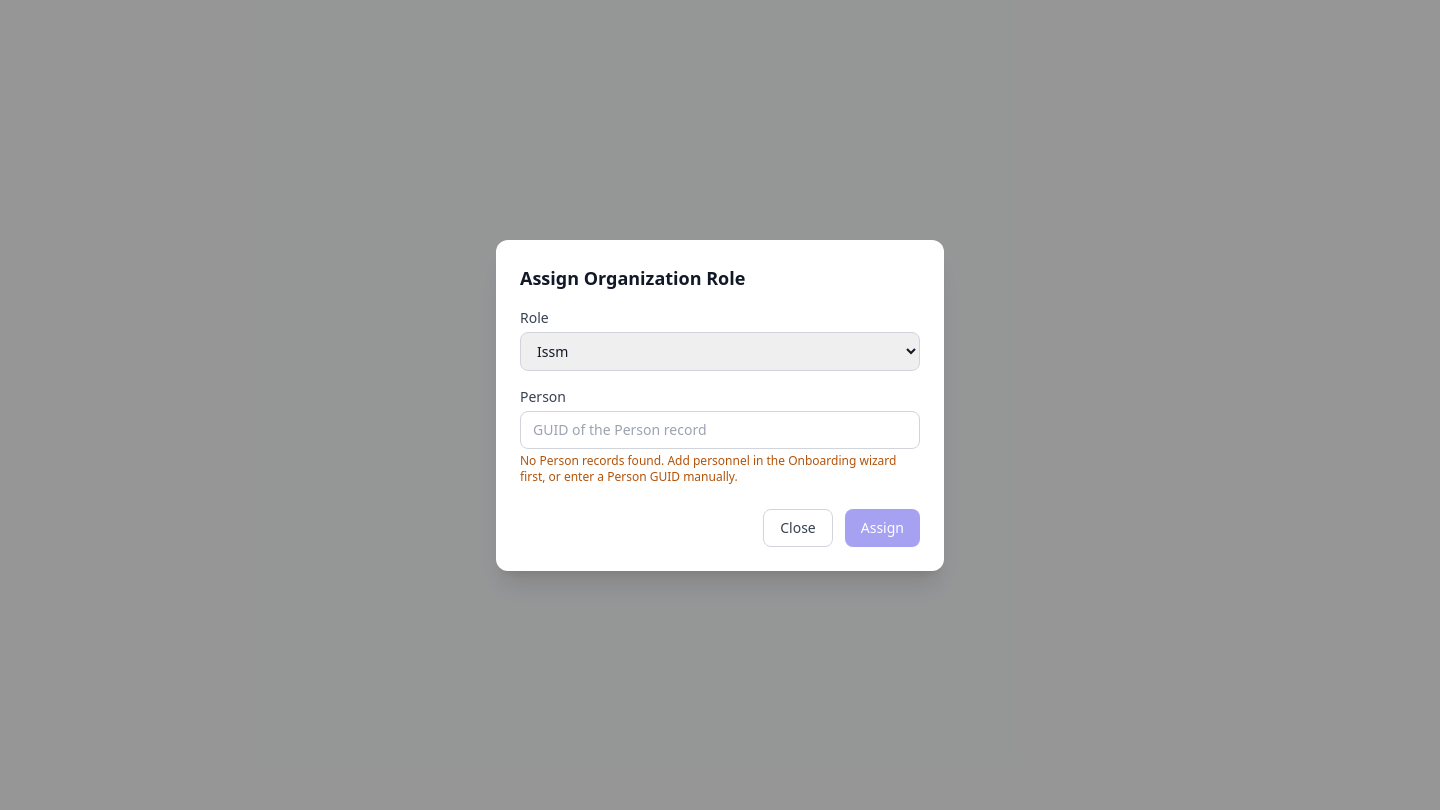
AssignRoleDialog › renders inline SoD warning when server response contains one
The width and height of the screenshot is (1440, 810).
# Provide person id + click Assign
Step 1. Type "11111111-1111-1111-1111-111111111111" into the field labelled "Person" → (720, 430), box [520, 410, 920, 448]
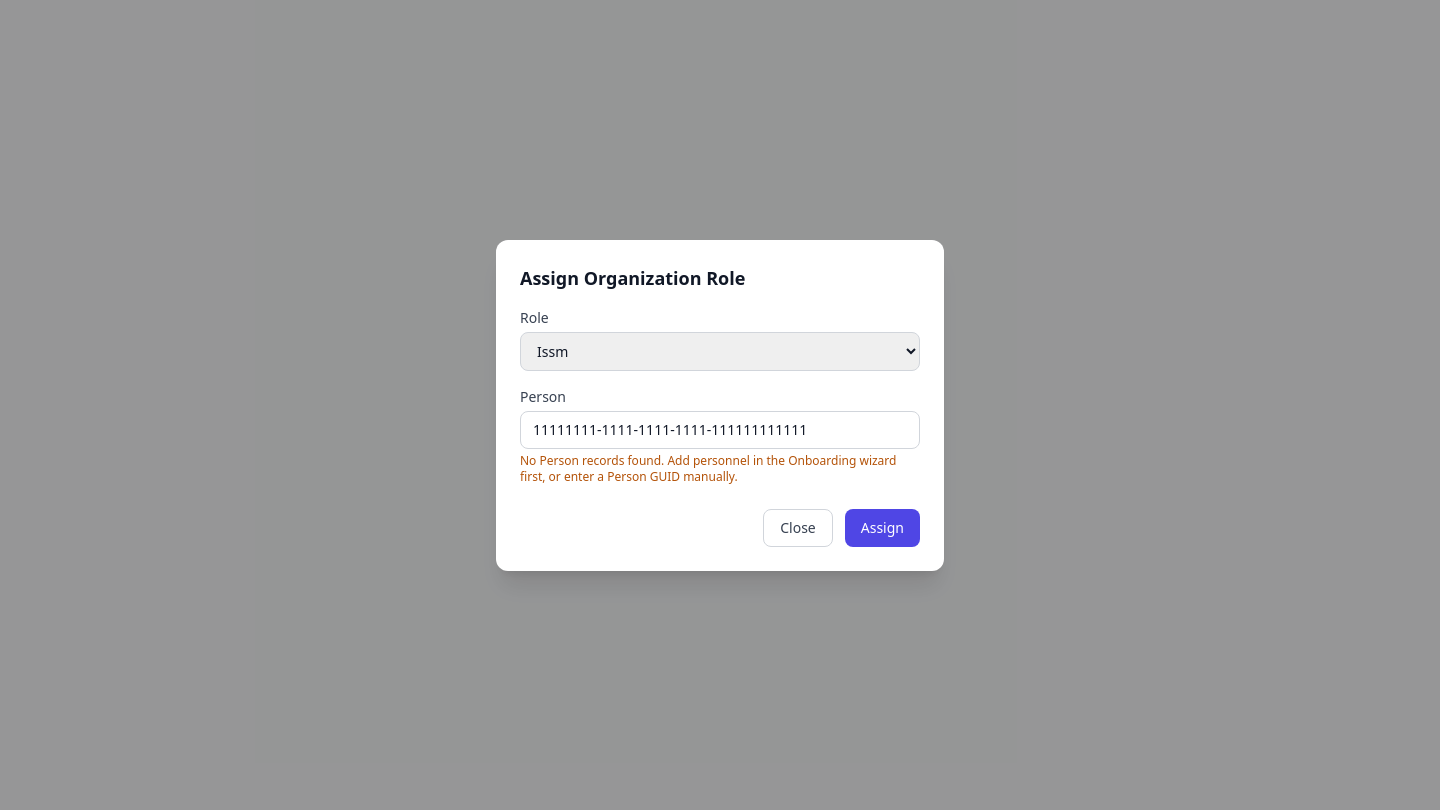
Step 2. Click the button "Assign" → (882, 528), box [845, 508, 920, 546]
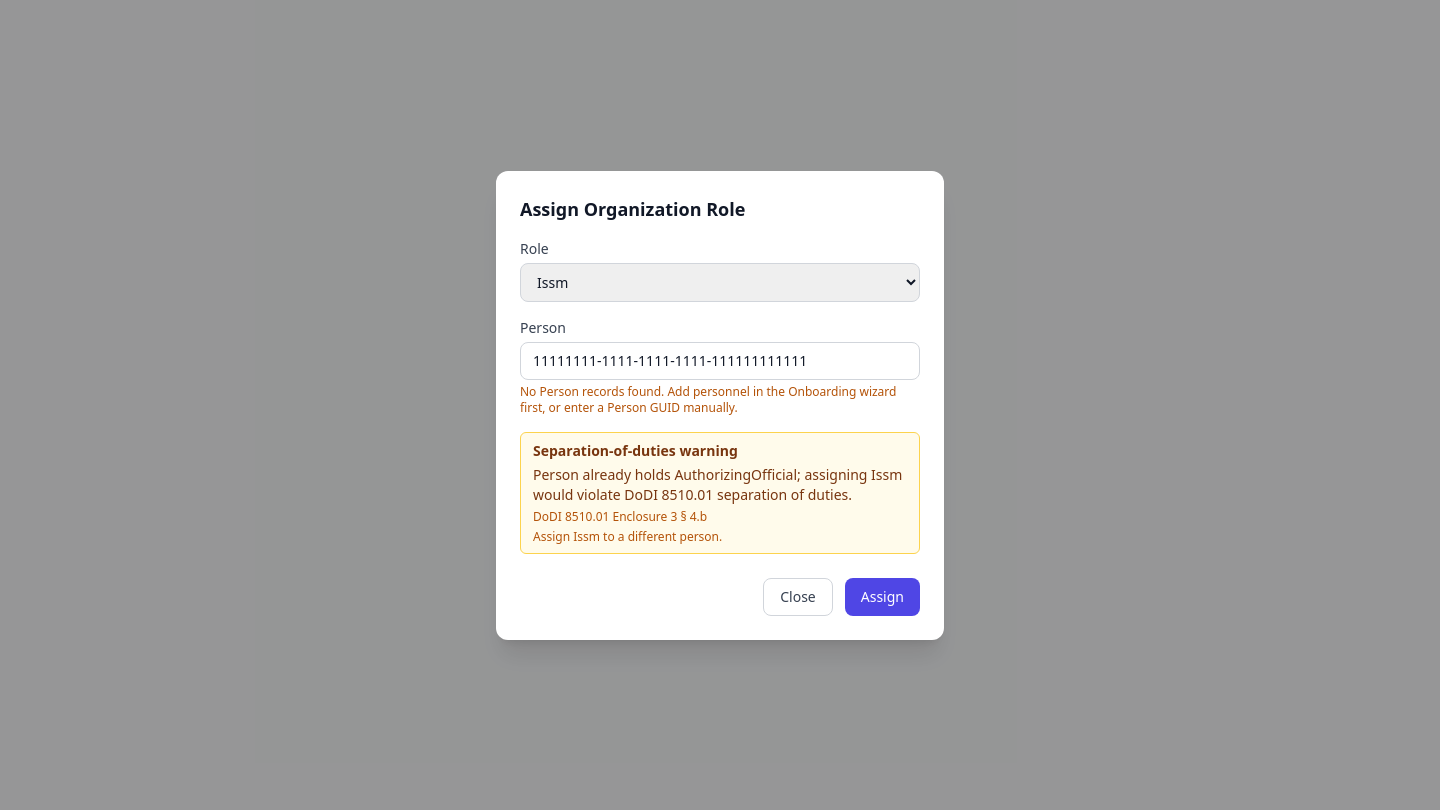
Check: the text "DoDI 8510.01 Enclosure 3 § 4.b" is shown, box [533, 508, 707, 524]
